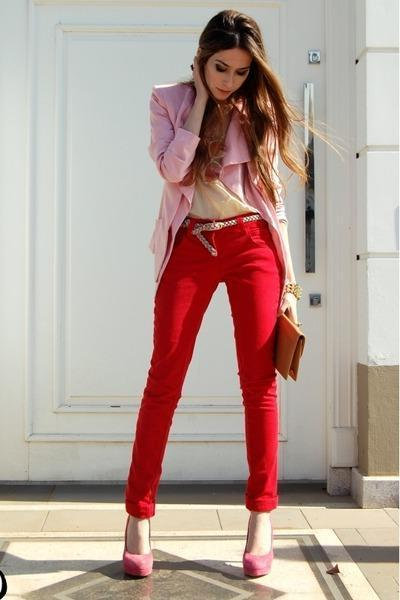jacket: (143, 82, 290, 280)
trousers: (112, 214, 289, 519)
